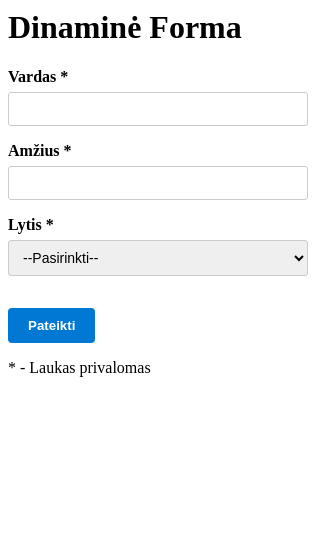
Test: DynamicForm - validation and conditions › Conditional visibility › should show Student ID when Age < 26
This screenshot has width=325, height=542.
Type "25" into the number field with id "age".
click(158, 183); type("25")  # box top-left (8, 166), bottom-right (308, 200)
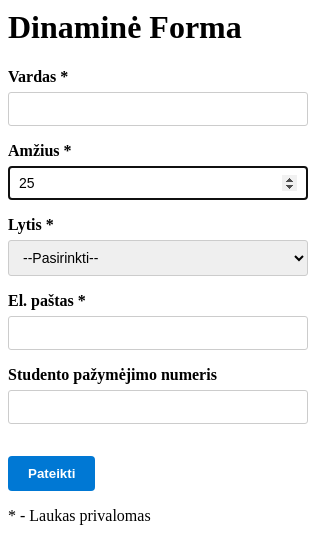
Result: the field with id "studentId" is shown at top-left (8, 390), bottom-right (308, 424)
